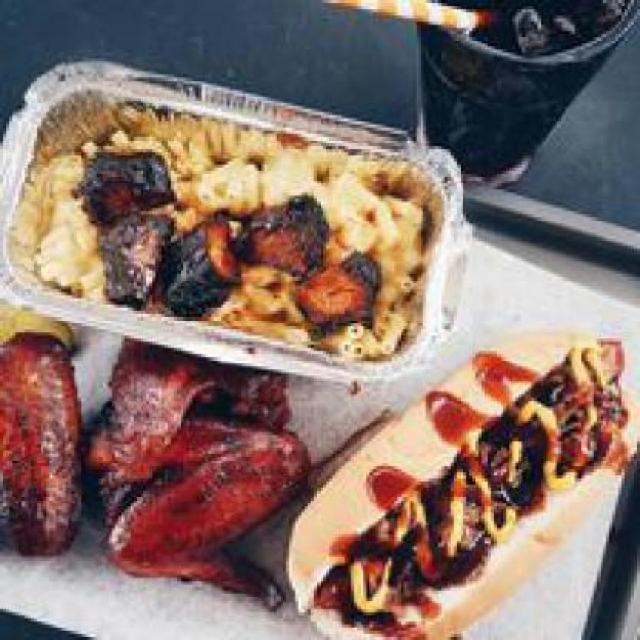hot dog: (280, 335, 637, 637)
macaroni and cheese: (24, 96, 436, 358)
